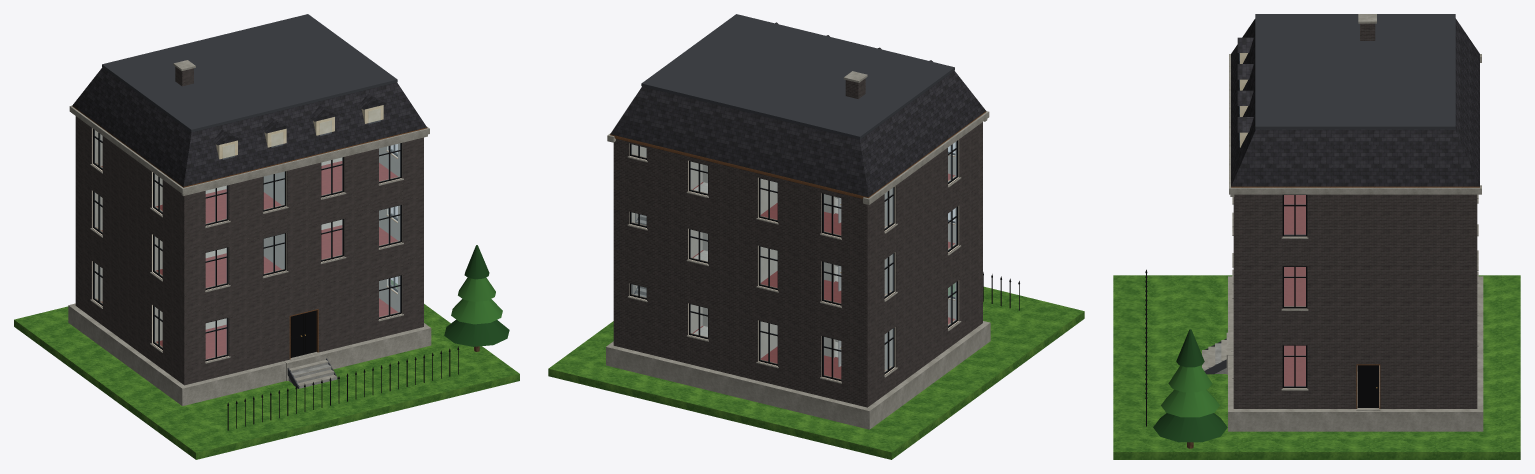
The model's file is b_gothic_manor.gltf.
The picture shows the model from 3 angles, left to right: view 1: azimuth 30°, elevation 25°; view 2: azimuth 150°, elevation 25°; view 3: azimuth 270°, elevation 25°; orthographic projection. The views are drawn at different scales.
Visible parts, largest first — view 1: S_gothic_manor, D_gothic_manor_F1_S2_Door1, D_gothic_manor_F1_S2_Door0; view 2: S_gothic_manor; view 3: S_gothic_manor, D_gothic_manor_F1_E1_Door0.
Boxes of the visible parts, x1,y1,x2,y2 form: S_gothic_manor: (14, 14, 519, 459); D_gothic_manor_F1_S2_Door1: (303, 310, 316, 354); D_gothic_manor_F1_S2_Door0: (290, 313, 302, 357); S_gothic_manor: (548, 14, 1084, 459); S_gothic_manor: (1113, 14, 1520, 459); D_gothic_manor_F1_E1_Door0: (1357, 365, 1378, 407).
Size of the model in its own units: 20.12 by 16.1 by 18.5.
Materials: 21 (13 with a texture image).
